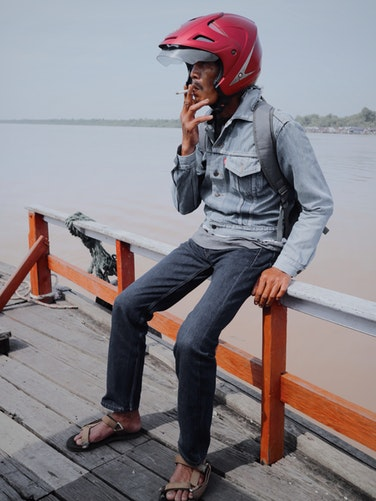helmet: (162, 8, 269, 99)
